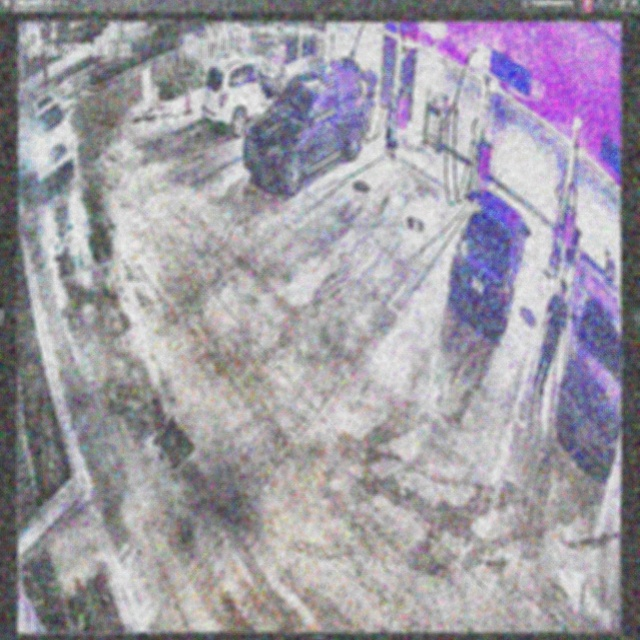Car: (244, 62, 368, 193), (448, 189, 531, 338)
